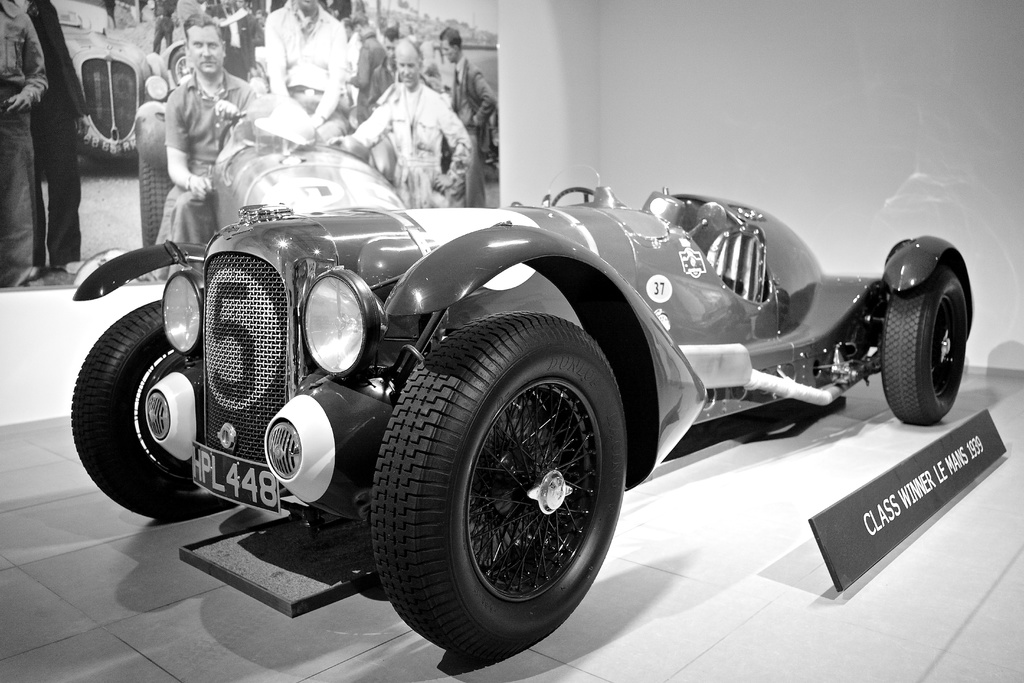person: (154, 15, 268, 244)
